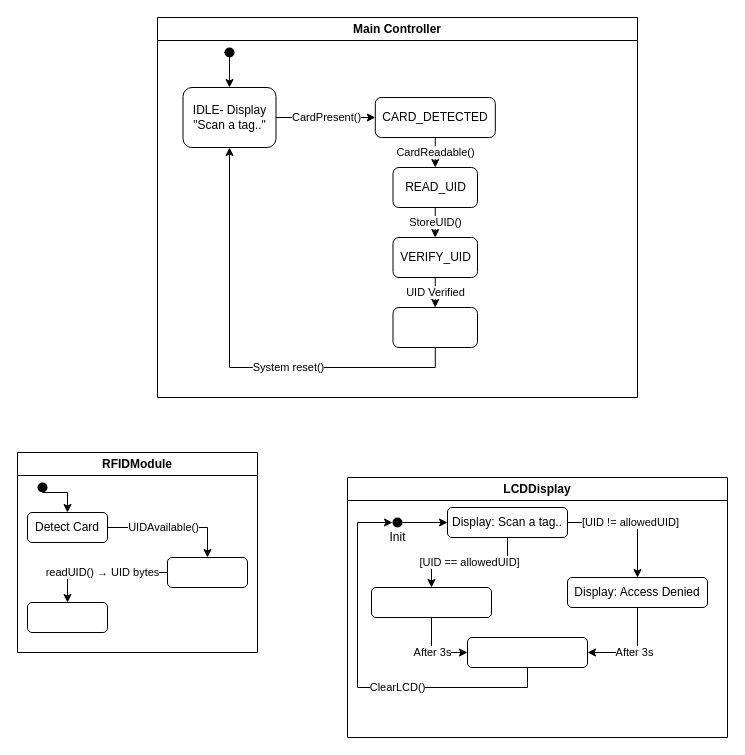
Some shapes in this 745 by 755 pixel diagram are drawn without their labels. Here are the shapes that lost their labels. From the top down, the centre of each, then its label:
At point (435, 327): "RESET".
At point (207, 572): "ReadUID".
At point (67, 617): "ReturnUID".
At point (431, 602): "Display: Success!".
At point (527, 652): "Clear after delay".
